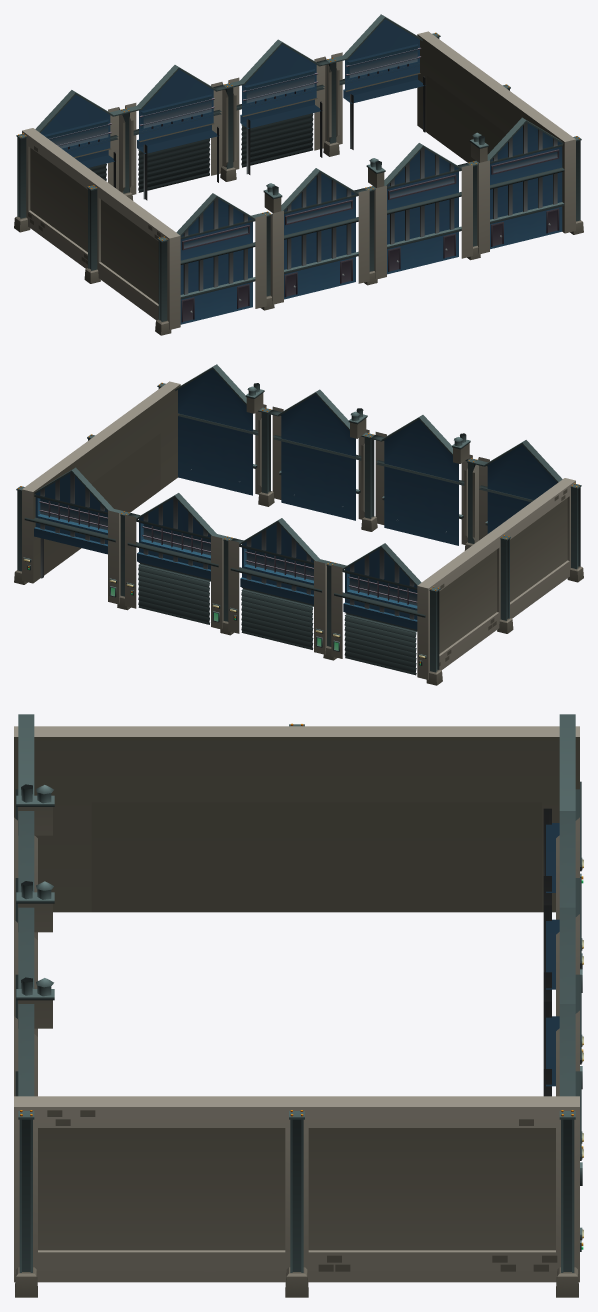
The model's file is factory.fbx.
3 views of the same model, one above another, from view 1: azimuth 30°, elevation 25°; view 2: azimuth 150°, elevation 25°; view 3: azimuth 270°, elevation 25° (orthographic). The views are drawn at different scales.
Visible parts, largest first — view 1: Warehouse_2A.001, Warehouse_Door_2A.001; view 2: Warehouse_2A.001, Warehouse_Door_2A.001; view 3: Warehouse_2A.001.
Part boxes in pixels (x1,y1,x2,y2): Warehouse_2A.001: (14, 14, 583, 335); Warehouse_Door_2A.001: (88, 113, 313, 192); Warehouse_2A.001: (14, 364, 583, 685); Warehouse_Door_2A.001: (138, 562, 417, 675); Warehouse_2A.001: (14, 714, 583, 1297).
Size of the model in its own units: 5660 by 1602 by 3444.
